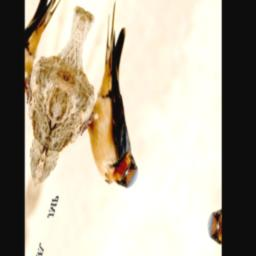Swallow: (62, 0, 178, 199)
